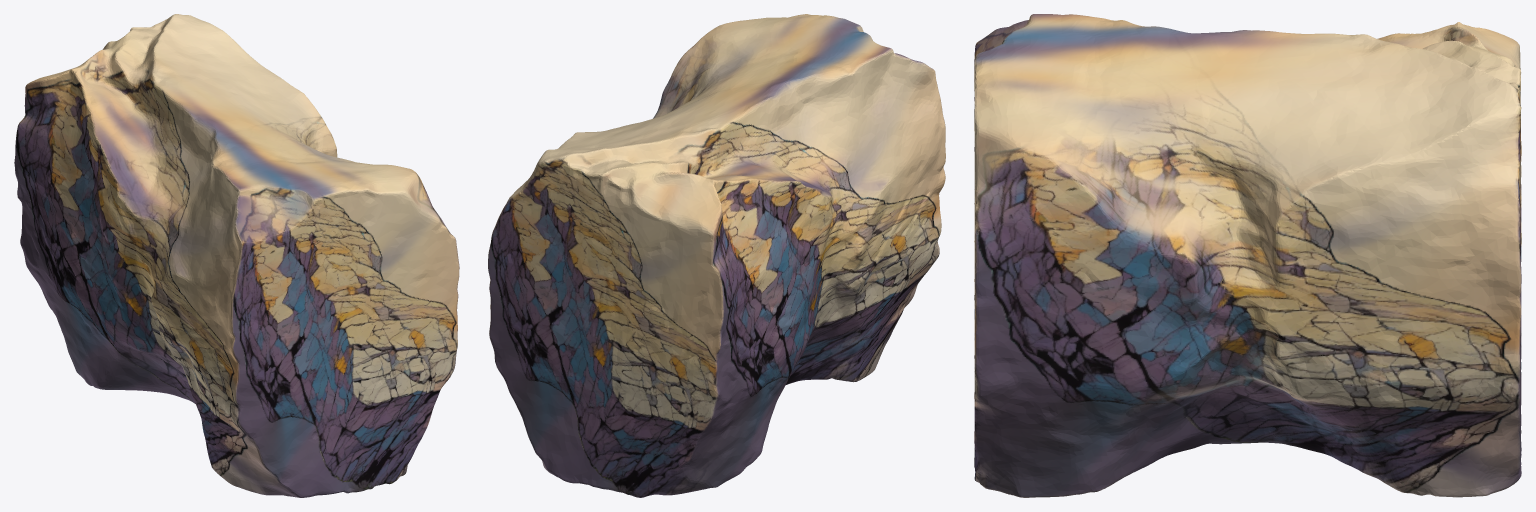
The model's file is hill_outcrop.glb.
The picture shows the model from 3 angles, left to right: view 1: azimuth 30°, elevation 25°; view 2: azimuth 150°, elevation 25°; view 3: azimuth 270°, elevation 25°; orthographic projection. The views are drawn at different scales.
Visible parts, largest first — view 1: hill_outcrop; view 2: hill_outcrop; view 3: hill_outcrop.
Boxes of the visible parts, left/top/right/bottom form: hill_outcrop: left=14, top=14, right=459, bottom=497; hill_outcrop: left=488, top=14, right=945, bottom=497; hill_outcrop: left=974, top=14, right=1521, bottom=497.
Bounding box in the file's own units: 3.02 × 4 × 4.99.
1 material, 1 textured.
